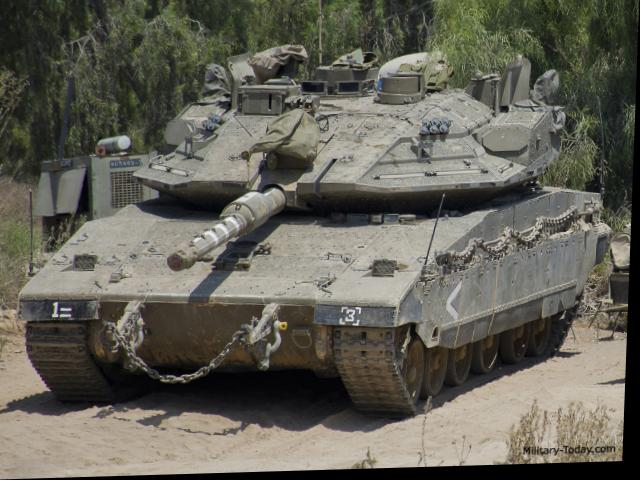tank: (21, 68, 598, 413)
